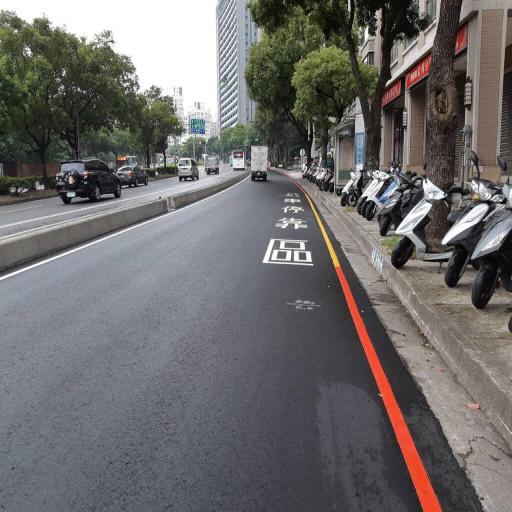car: (53, 152, 122, 213), (110, 147, 150, 188), (242, 134, 272, 182), (167, 147, 202, 187), (202, 148, 222, 179), (227, 144, 246, 174)
redline: (332, 264, 449, 512), (272, 163, 310, 195)
yellowline: (304, 192, 344, 267)
